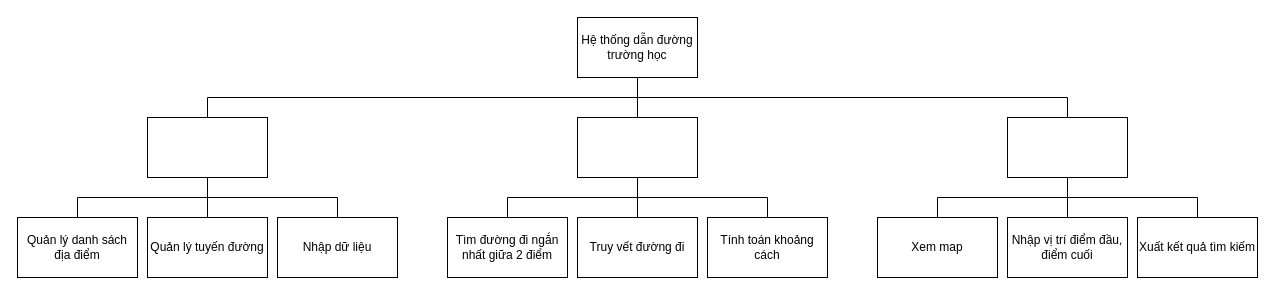
This 1275x295 diagram has some shape labels left out. Here are the shapes that lost their labels. From the top down, the box of each, then its label:
(146, 116, 268, 178): Quản lý dữ liệu bản đồ
(576, 116, 698, 178): Xử lý tìm đường
(1006, 116, 1128, 178): Xử lý giao diện người dùng
